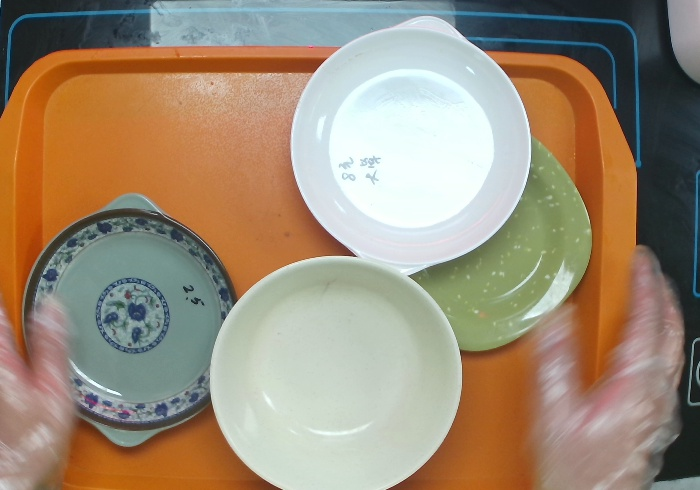NLDX-Bai_Se_Shuang_Er_Die: (288, 14, 532, 279)
NLDX-Bai_Se_Yuan_Wan: (209, 255, 462, 490)
NLDX-Lv_Hua_Fang_Die: (408, 135, 591, 353)
NLDX-Qing_Hua_Shuang_Er_Die: (22, 193, 239, 448)
